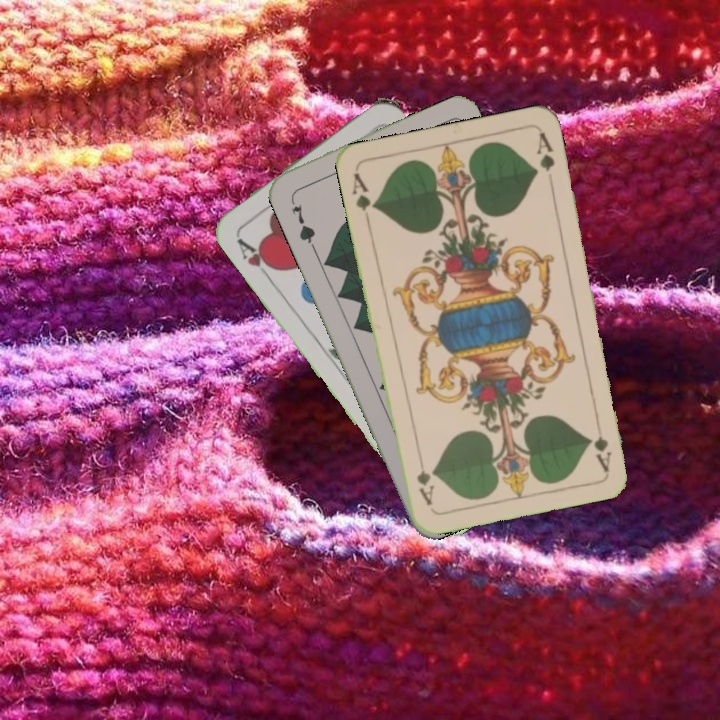G7: (286, 193, 318, 249)
GA: (348, 169, 379, 226), (590, 414, 614, 473)
HA: (232, 233, 280, 283)
